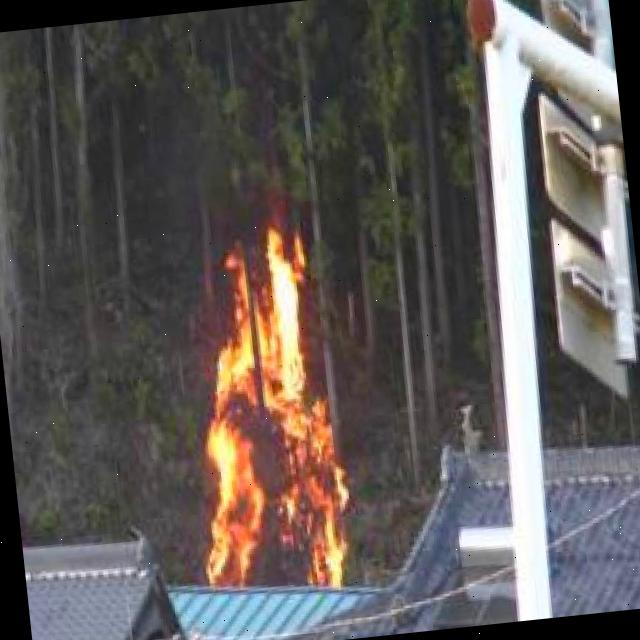fire: (175, 235, 361, 600)
